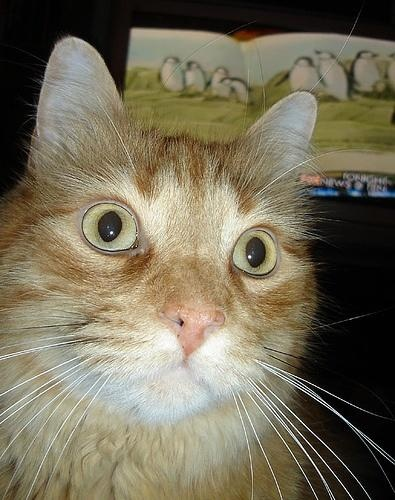cat: (1, 42, 350, 496)
